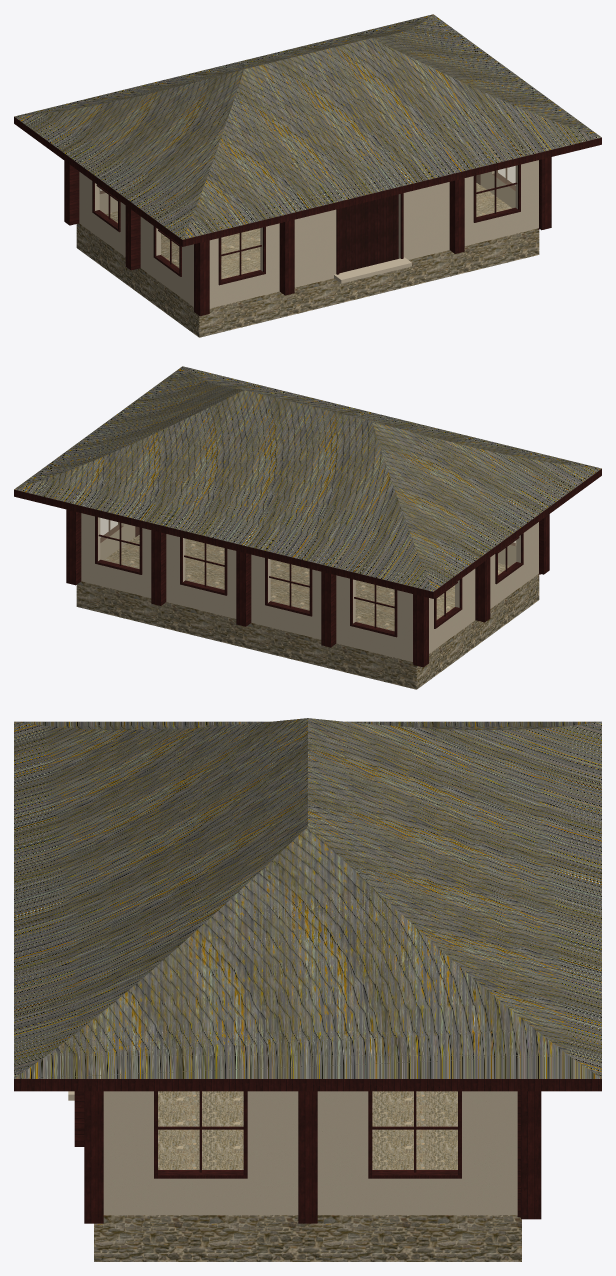
The model's file is chinese_hall_01.glb.
3 views of the same model, one above another, from view 1: azimuth 30°, elevation 25°; view 2: azimuth 150°, elevation 25°; view 3: azimuth 270°, elevation 25° (orthographic). The views are drawn at different scales.
Parts seen in each view (by area): view 1: chinese_hall_01; view 2: chinese_hall_01; view 3: chinese_hall_01.
Part boxes in pixels (x1,y1,x2,y2): chinese_hall_01: (14,14,601,337); chinese_hall_01: (14,366,601,689); chinese_hall_01: (14,718,601,1261).
Size of the model in its own units: 14.8 by 6.67 by 10.3.
6 materials, 5 textured.
